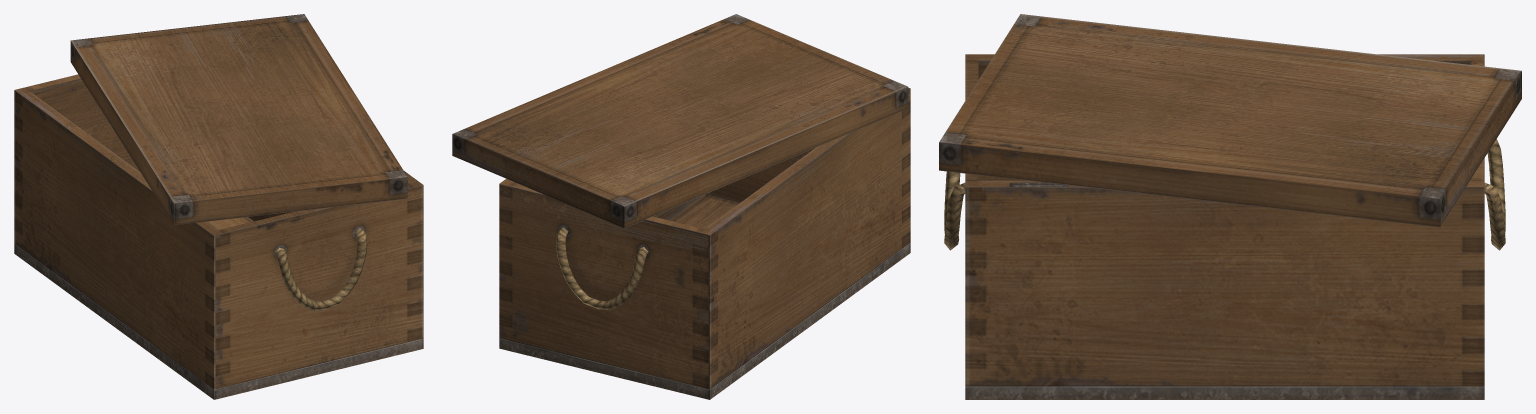
The model's file is ms_carte_wooden.fbx.
The picture shows the model from 3 angles, left to right: view 1: azimuth 30°, elevation 25°; view 2: azimuth 150°, elevation 25°; view 3: azimuth 270°, elevation 25°; orthographic projection. The views are drawn at different scales.
Parts seen in each view (by area): view 1: ms_carte_wooden; view 2: ms_carte_wooden; view 3: ms_carte_wooden.
Part boxes in pixels (<box>): ms_carte_wooden: <box>14,14,423,399</box>; ms_carte_wooden: <box>452,14,910,399</box>; ms_carte_wooden: <box>939,14,1521,399</box>.
Size of the model in its own units: 38.72 by 23.52 by 51.51.
